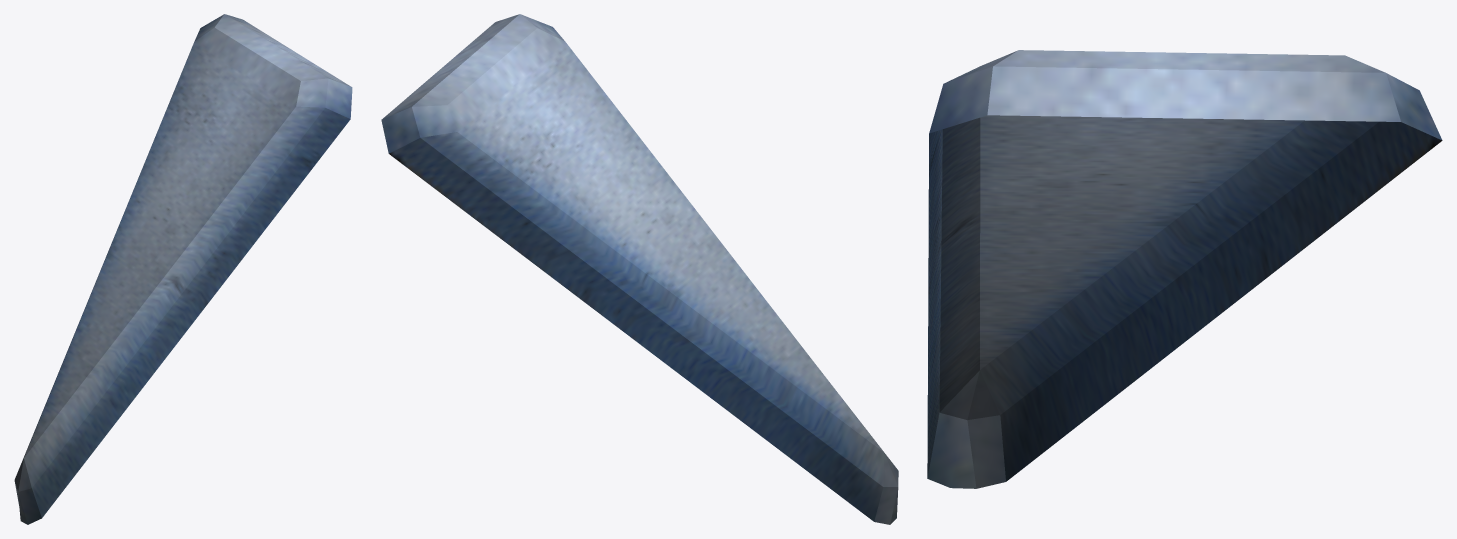
File: 02_05_computer_scan_storage_button_left.dae
3 renders of one model, left to right at view 1: azimuth 30°, elevation 25°; view 2: azimuth 150°, elevation 25°; view 3: azimuth 270°, elevation 25°, orthographic. The views are drawn at different scales.
Parts seen in each view (by area): view 1: polySurface170; view 2: polySurface170; view 3: polySurface170.
Part boxes in pixels (x1=…): polySurface170: x1=14, y1=14, x2=352, y2=524; polySurface170: x1=381, y1=14, x2=898, y2=524; polySurface170: x1=927, y1=50, x2=1442, y2=488.
Size of the model in its own units: 0.1077 by 0.1103 by 0.0708.
